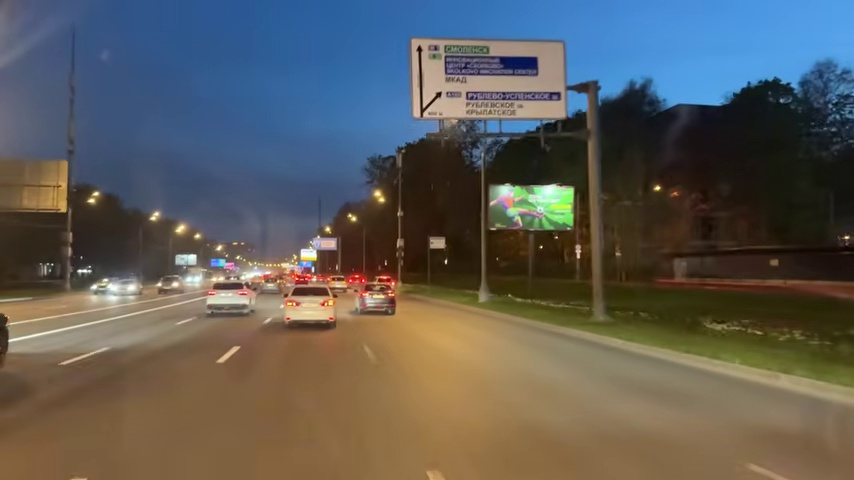acesa: (84, 189, 104, 209), (372, 187, 388, 205), (173, 222, 190, 238), (147, 209, 162, 225)
